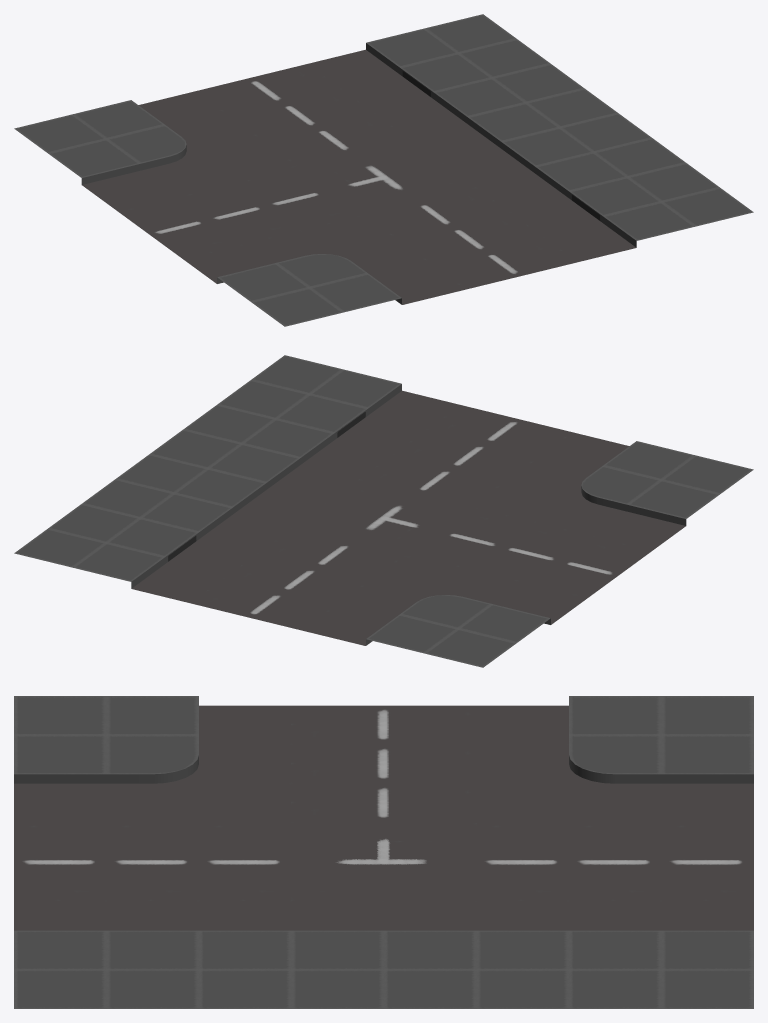
Rendered from Tweg3.fbx.
3 views of the same model, one above another, from view 1: azimuth 30°, elevation 25°; view 2: azimuth 150°, elevation 25°; view 3: azimuth 270°, elevation 25° (orthographic). The views are drawn at different scales.
Visible parts, largest first — view 1: pPlane2; view 2: pPlane2; view 3: pPlane2.
Part boxes in pixels (box(x1,y1,x2,y2)): pPlane2: box(14, 14, 753, 326); pPlane2: box(14, 355, 753, 667); pPlane2: box(14, 696, 753, 1008).
Bounding box in the file's own units: 22.88 × 0.3225 × 22.88.
